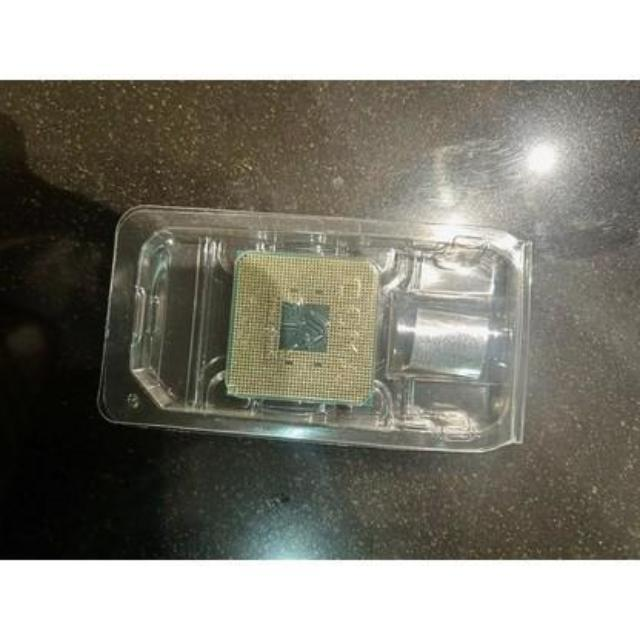CPU: (230, 250, 376, 405)
